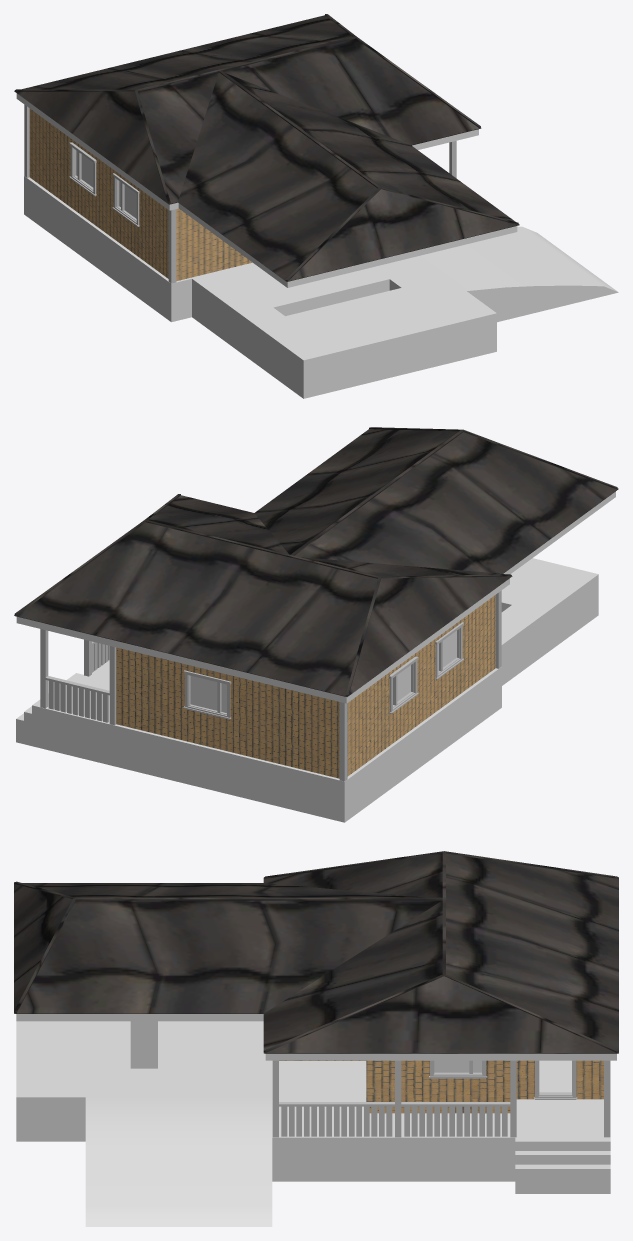
Rendered from HouseFixed.fbx.
The picture shows the model from 3 angles, top to bottom: view 1: azimuth 30°, elevation 25°; view 2: azimuth 150°, elevation 25°; view 3: azimuth 270°, elevation 25°; orthographic projection. The views are drawn at different scales.
Visible parts, largest first — view 1: HouseRoof, Concrete, HouseWalls, WindowFrame, OuterFence, Windows; view 2: HouseRoof, Concrete, HouseWalls, OuterFence, WindowFrame, Windows; view 3: HouseRoof, Concrete, OuterFence, HouseWalls, WindowFrame, FloorPlastic, Windows.
Part boxes in pixels (x1=…): HouseRoof: x1=14, y1=14, x2=519, y2=287; Concrete: x1=24, y1=176, x2=618, y2=398; HouseWalls: x1=29, y1=108, x2=252, y2=281; WindowFrame: x1=69, y1=142, x2=139, y2=226; OuterFence: x1=24, y1=104, x2=456, y2=283; Windows: x1=76, y1=150, x2=136, y2=218; HouseRoof: x1=14, y1=427, x2=618, y2=703; Concrete: x1=16, y1=558, x2=598, y2=822; HouseWalls: x1=116, y1=595, x2=495, y2=778; OuterFence: x1=40, y1=590, x2=501, y2=781; WindowFrame: x1=183, y1=622, x2=464, y2=719; Windows: x1=190, y1=631, x2=456, y2=712; HouseRoof: x1=14, y1=851, x2=618, y2=1060; Concrete: x1=16, y1=1021, x2=610, y2=1226; OuterFence: x1=272, y1=1060, x2=610, y2=1137; HouseWalls: x1=279, y1=1060, x2=603, y2=1113; WindowFrame: x1=429, y1=1060, x2=577, y2=1099; FloorPlastic: x1=539, y1=1060, x2=571, y2=1092; Windows: x1=434, y1=1060, x2=481, y2=1072.
Bounding box in the file's own units: 1366 × 641 × 1674.
